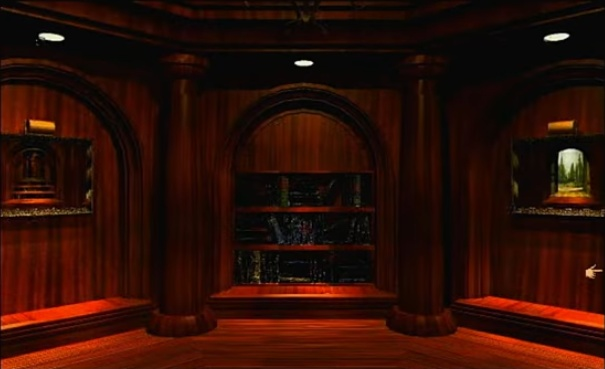Pointer: (581, 259, 604, 280)
